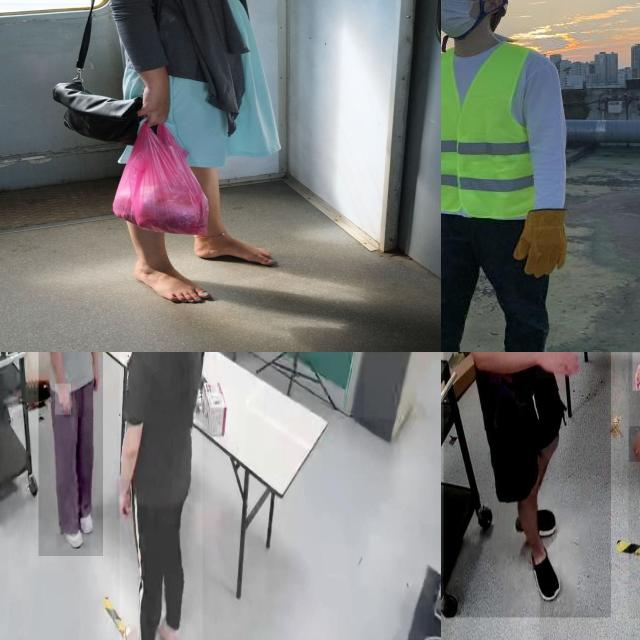Barefoots: (134, 260, 211, 303), (194, 238, 277, 266)
hand_noglove: (536, 352, 581, 379), (116, 480, 134, 520), (55, 384, 71, 416), (629, 426, 640, 462), (632, 352, 640, 391), (92, 362, 100, 392)
person: (441, 0, 610, 352), (443, 352, 611, 618), (119, 352, 202, 640), (38, 352, 103, 556)
shoes: (526, 543, 564, 607), (146, 603, 181, 640), (57, 513, 85, 551), (120, 616, 158, 640), (76, 495, 96, 534)
vest: (441, 44, 538, 219)
